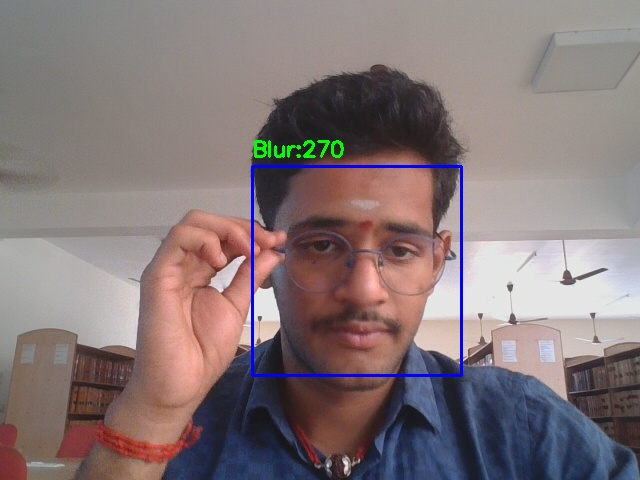real: (252, 166, 461, 375)
